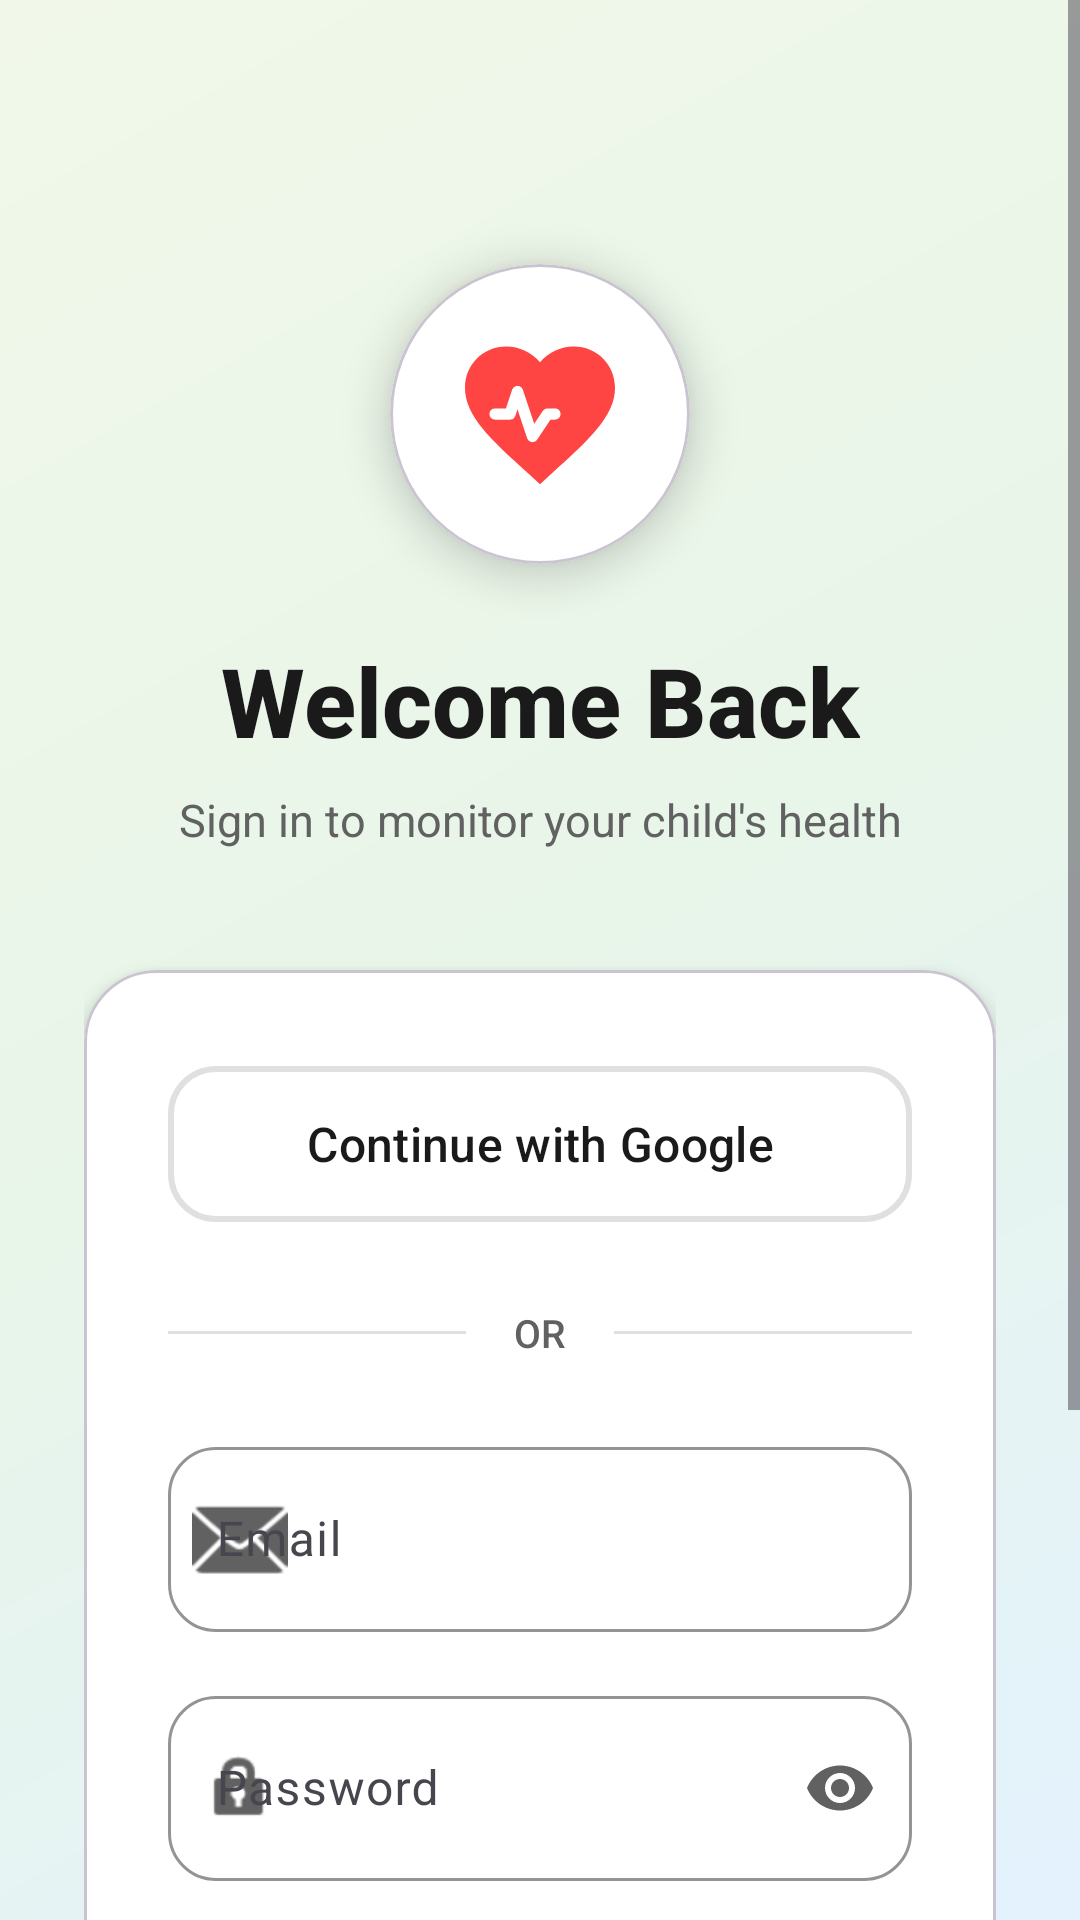

Named icons in this screenshot (1080px×1920px) and their bounding boxes, {"left": x1, "top": y1, "right": x2, "bottom": y2}:
health monitor: {"left": 465, "top": 346, "right": 615, "bottom": 484}
